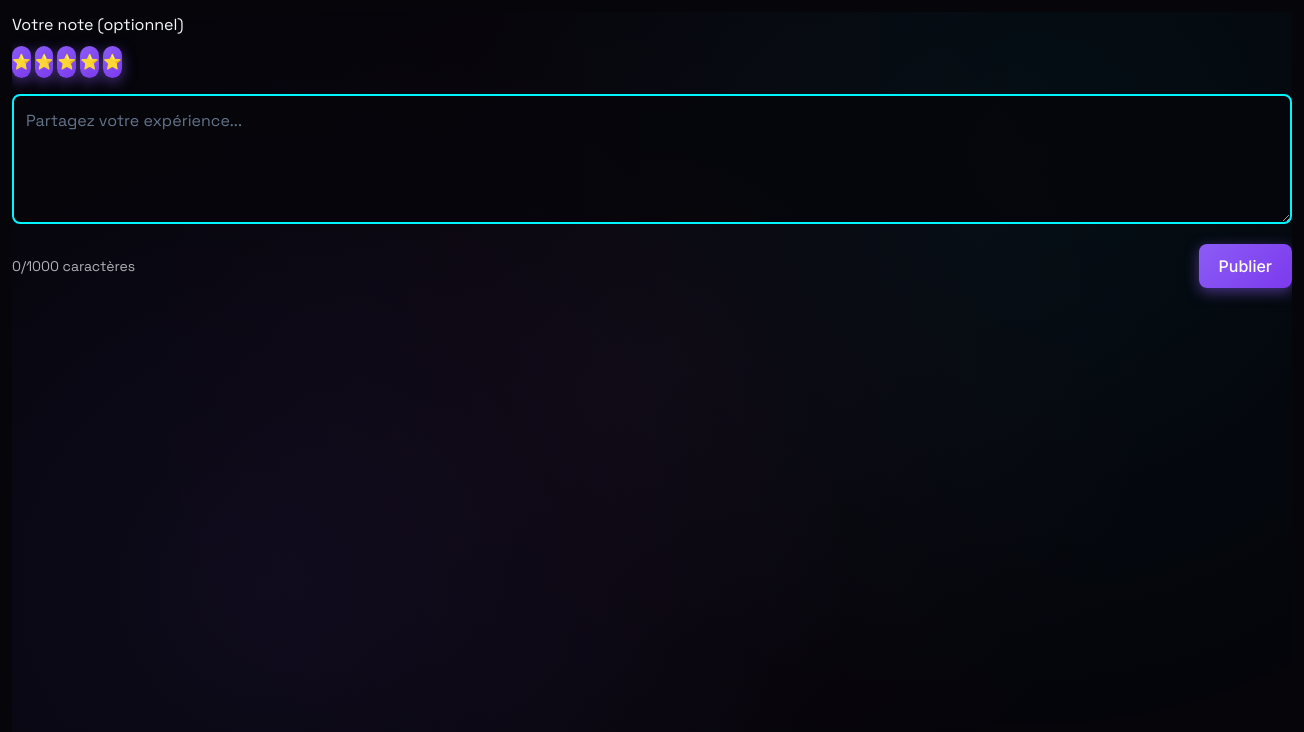
Test: CommentForm › updates character count on input
In the text box with placeholder "Partagez votre expérience...": (652, 159) [12,94,1292,224], type "Hello"
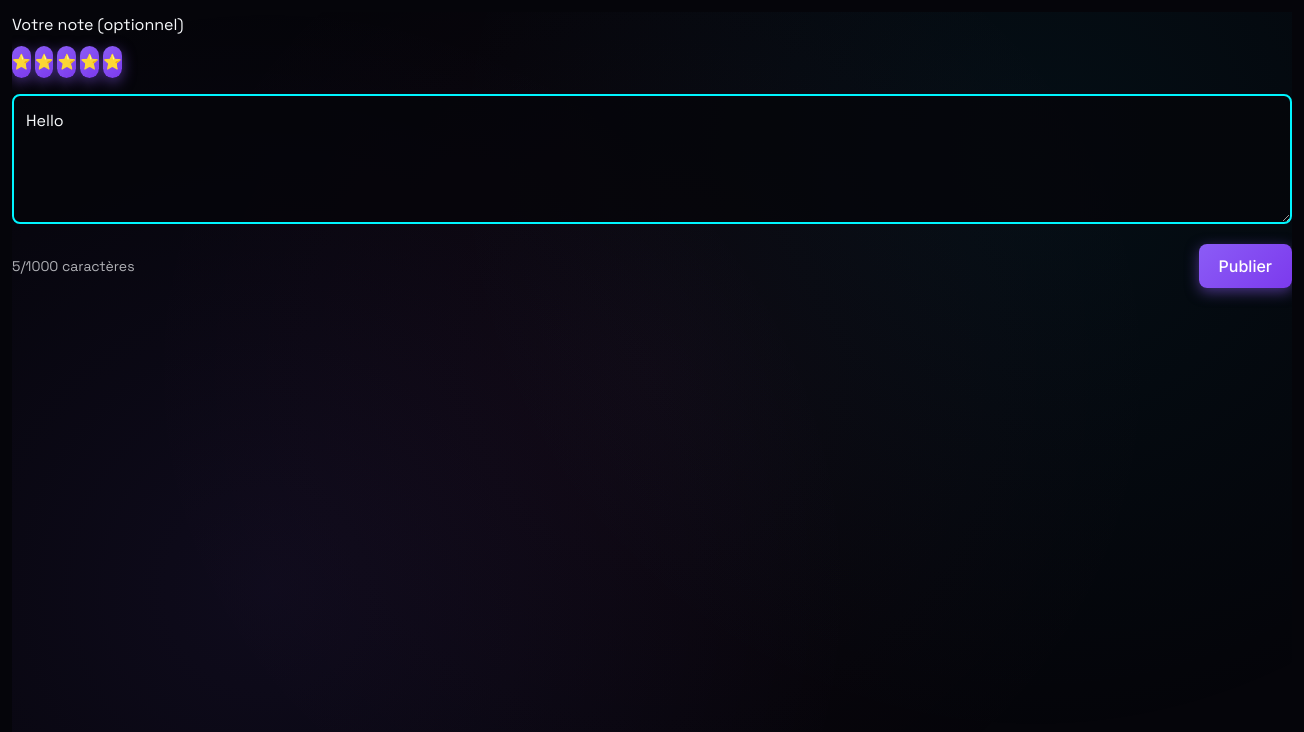
Result: the text "5/1000 caractères" is shown at [12,256,134,276]
